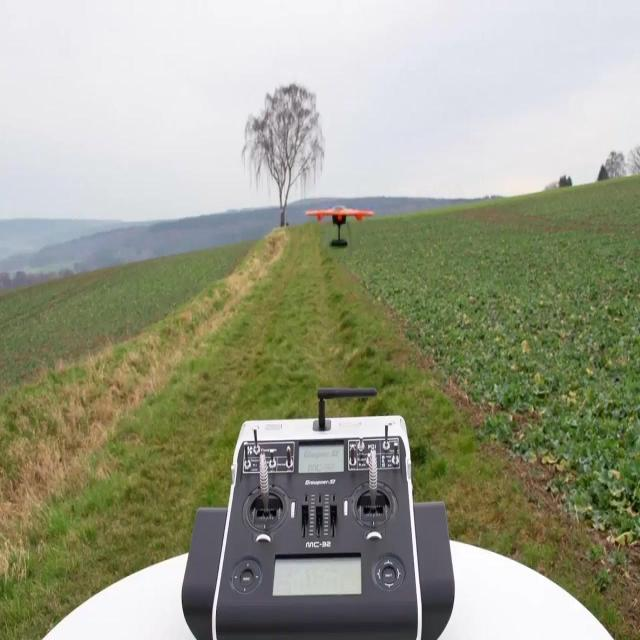UAV: (304, 206, 374, 247)
